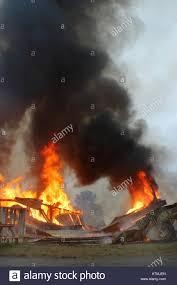fire: (2, 143, 81, 226), (124, 171, 158, 214)
